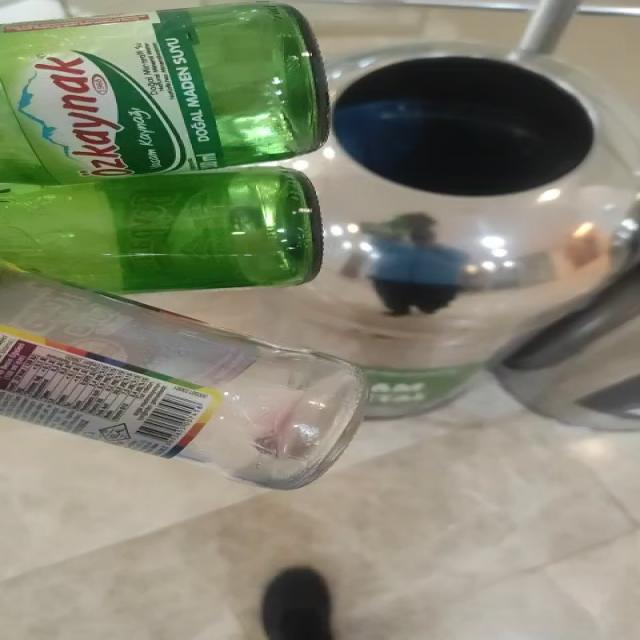glass: (0, 3, 365, 489)
